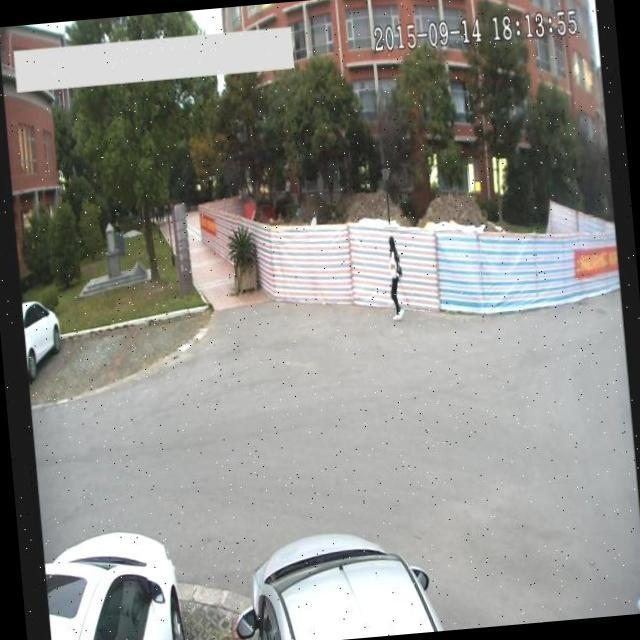person: (382, 236, 409, 327)
